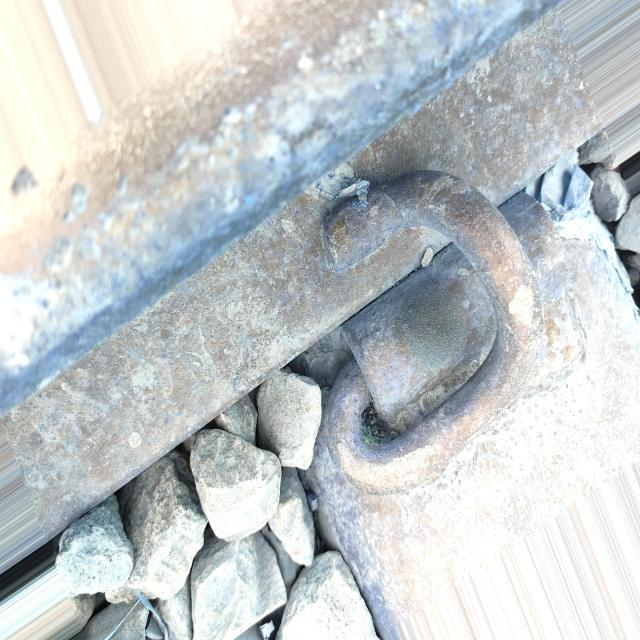Good Fasteners: (324, 171, 547, 492)
